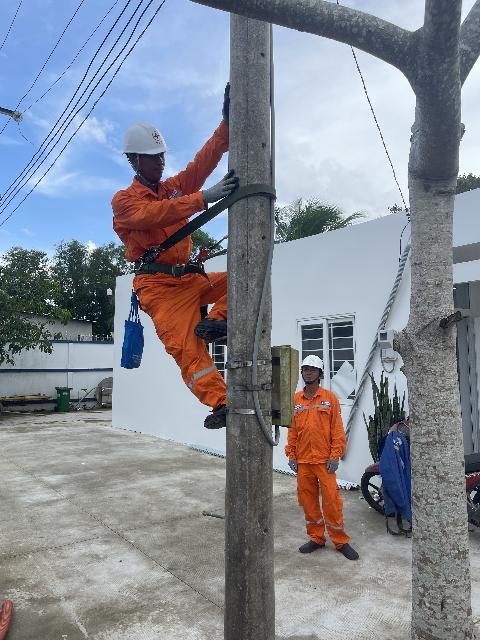gloves: (194, 175, 249, 210), (208, 82, 242, 130), (277, 452, 299, 479), (321, 452, 344, 477)
harness: (126, 239, 221, 287)
helmet: (110, 114, 175, 163), (292, 348, 329, 378)
shoes: (192, 317, 249, 348), (192, 397, 250, 419), (329, 535, 367, 560), (295, 530, 330, 554)
